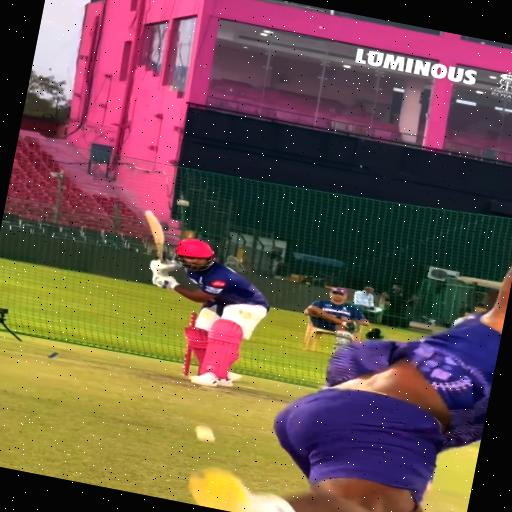Cricket bat: (146, 211, 165, 260)
